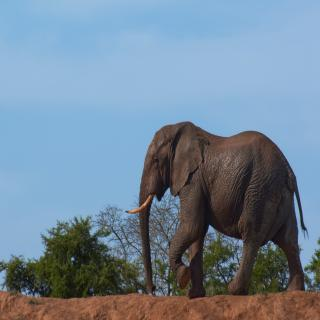Elephant: (124, 119, 310, 304)
